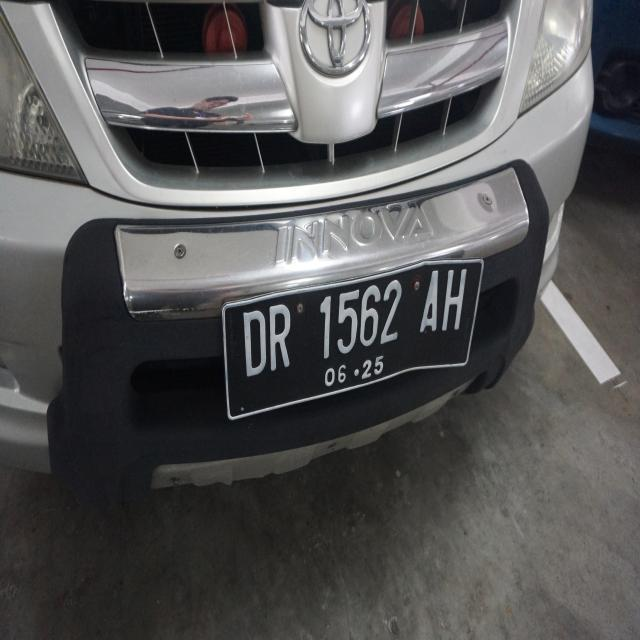1: (314, 294, 336, 364)
2: (380, 278, 402, 346)
5: (333, 290, 361, 356)
6: (359, 283, 384, 352)
A: (416, 266, 446, 337)
D: (236, 309, 268, 386)
H: (438, 268, 468, 337)
R: (266, 300, 296, 379)
